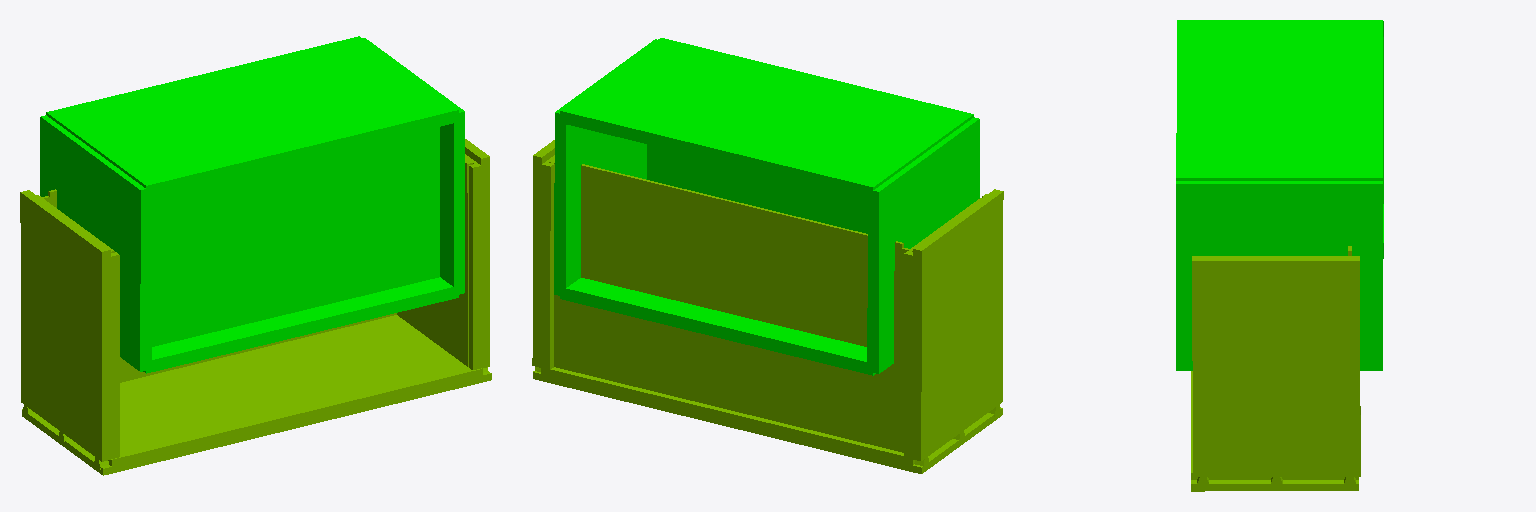
robot.urdf — cube.urdf:
<?xml version="0.0" ?>
<robot name="cube.urdf">
  <link name="baseLink">
    <contact>
      <lateral_friction value="2.0"/>
      <inertia_scaling value="3.0"/>
    </contact>
    <inertial>
      <origin rpy="0 0 0" xyz="0 0 0"/>
       <mass value=".05"/>
       <inertia ixx="1" ixy="0" ixz="0" iyy="1" iyz="0" izz="1"/>
    </inertial>
    <visual>
      <origin rpy="3.14 3.14 0" xyz="0 0 -0.1"/>
      <geometry>
        <mesh filename="model_new.obj" scale="0.8 0.8 0.6"/>
      </geometry>
       <material name="white">
        <color rgba="0.54 0.8 0 1"/>
      </material>
    </visual>
    <collision>
      <origin rpy="3.14 3.14 0" xyz="0 0 -0.1"/>
      <geometry>
        <mesh filename="model_new.obj" scale="0.8 0.8 0.6"/>
      </geometry>
    </collision>
  </link>
  <joint name="joint_baseLink_childA" type="prismatic">
    <parent link="baseLink"/>
    <child link="rear"/>
    <origin rpy="1.570 0 3.14" xyz="0.0 0.0 0.0"/>
    <axis xyz="0 1.0 0"/>
    <limit lower="0.0" upper="0.2" />
  </joint>

  <link name="down">
    <inertial>
      <origin rpy="0 0 0" xyz="0 0 0"/>
      <mass value="0.001"/>
      <inertia ixx="-4.46E-06" ixy="-4.55E-07" ixz="1.95E-06" iyy="-2.47E-06" iyz="8.51E-08" izz="2.17E-06"/>
    </inertial>
    <visual>
      <origin rpy="0 0 0" xyz="0 0 -0.05"/>
      <geometry>
        <box size=".28 .15 0.01"/>
      </geometry>
      <material name="green">
      </material> 
    </visual>
    <collision>
      <origin rpy="0 0 0" xyz="0 0 -0.05"/>
      <geometry>
        <box size=".28 .15 0.01"/>
      </geometry>
    </collision>
  </link>

  <link name="left">
    <inertial>
      <origin rpy="0 0 0" xyz="0 0 0"/>
      <mass value="0.001"/>
      <inertia ixx="-4.46E-06" ixy="-4.55E-07" ixz="1.95E-06" iyy="-2.47E-06" iyz="8.51E-08" izz="2.17E-06"/>
    </inertial>
    <visual>
      <origin rpy="0 0 0" xyz="0.135 0.0 0"/>
      <geometry>
        <box size=".01 .15 0.15"/>
      </geometry>
      <material name="green">
      </material> 
    </visual>
    <collision>
      <origin rpy="0 0 0" xyz="0.135 0 0"/>
      <geometry>
        <box size=".01 .15 0.15"/>
      </geometry>
    </collision>
  </link>

  <joint name="left_joint" type="fixed">
    <origin rpy="0 0 0" xyz="0 0 0"/>
    <parent link="down"/>
    <child link="left"/>
  </joint>

  <link name="right">
    <inertial>
      <mass value="0.001"/>
      <inertia ixx="-4.46E-06" ixy="-4.55E-07" ixz="1.95E-06" iyy="-2.47E-06" iyz="8.51E-08" izz="2.17E-06"/>
    </inertial>
    <visual>
      <origin rpy="0 0 0" xyz="-0.135 0.0 0"/>
      <geometry>
        <box size=".01 .15 0.15"/>
      </geometry>
      <material name="green">
      </material> 
    </visual>
    <collision>
      <origin rpy="0 0 0" xyz="-0.135 0 0"/>
      <geometry>
        <box size=".01 .15 0.15"/>
      </geometry>
    </collision>
  </link>

  <joint name="right_joint" type="fixed">
    <origin rpy="0 0 0" xyz="0 0 0"/>
    <parent link="down"/>
    <child link="right"/>
  </joint>

  <link name="front">
    <inertial>
      <mass value="0.001"/>
      <inertia ixx="-4.46E-06" ixy="-4.55E-07" ixz="1.95E-06" iyy="-2.47E-06" iyz="8.51E-08" izz="2.17E-06"/>
    </inertial>
    <visual>
      <origin rpy="0 0 0" xyz="0 0.0725 0"/>
      <geometry>
        <box size=".27 .01 0.15"/>
      </geometry>
      <material name="green">
      </material> 
    </visual>
    <collision>
      <origin rpy="0 0 0" xyz="0 0.0725 0"/>
      <geometry>
        <box size=".27 .01 0.15"/>
      </geometry>
    </collision>
  </link>

  <joint name="front_joint" type="fixed">
    <origin rpy="0 0 0" xyz="0 0 0"/>
    <parent link="down"/>
    <child link="front"/>
  </joint>

  <link name="rear">
    <inertial>
      <origin rpy="0 0 0" xyz="0 -0.0725 0"/>
      <mass value="0.001"/>
      <inertia ixx="-4.46E-06" ixy="-4.55E-07" ixz="1.95E-06" iyy="-2.47E-06" iyz="8.51E-08" izz="2.17E-06"/>
    </inertial>
    <visual>
      <origin rpy="0 0 0" xyz="0 -0.0725 0"/>
      <geometry>
        <box size=".27 .01 0.15"/>
      </geometry>
      <material name="green">
      </material> 
    </visual>
    <collision>
      <origin rpy="0 0 0" xyz="0 -0.0725 0"/>
      <geometry>
        <box size=".27 .01 0.15"/>
      </geometry>
    </collision>
  </link>

  <joint name="rear_joint" type="fixed">
    <origin rpy="0 0 0" xyz="0 0 0"/>
    <parent link="rear"/>
    <child link="down"/>
  </joint>


  <material name="panda_white">
    <color rgba="1. 1. 1. 1."/>
  </material>
  <material name="red">
    <color rgba="1.0 0. 0. 1.0"/>
  </material>
  <material name="blue">
    <color rgba="0. 0. 1. 1.0"/>
  </material>
  <material name="green">
    <color rgba="0. 1. 0. 1.0"/>
  </material>
<material name="Yellow">
  <color rgba="0.949 0.878 0.0392 1.0"/>
</material>
<material name="Blue">
  <color rgba="0.12156 0.3804 0.6745 1.0"/>
</material>
<material name="Red">
  <color rgba="0.9254901 0.243137 0.086274509 1.0"/>
</material>
</robot>

--- Facts derived from the render (not from the file) ---
Views: 3 orthographic renders of the robot side by side, from view 1: azimuth 30°, elevation 25°; view 2: azimuth 150°, elevation 25°; view 3: azimuth 270°, elevation 25°.
Robot: cube.urdf — 6 links, 5 joints (1 prismatic, 4 fixed); root link baseLink; default pose: all joints at 0.
Visible links, largest first — view 1: baseLink, down, front, left, rear, right; view 2: baseLink, front, left, down, rear, right; view 3: baseLink, front, right, down.
Boxes of the visible links, x1=… form: baseLink: x1=20, y1=139, x2=491, y2=475; down: x1=121, y1=127, x2=439, y2=354; front: x1=46, y1=36, x2=458, y2=197; left: x1=40, y1=115, x2=151, y2=371; rear: x1=143, y1=277, x2=458, y2=373; right: x1=363, y1=38, x2=464, y2=295; baseLink: x1=532, y1=140, x2=1003, y2=473; front: x1=560, y1=38, x2=973, y2=198; left: x1=867, y1=117, x2=979, y2=373; down: x1=636, y1=53, x2=965, y2=233; rear: x1=560, y1=278, x2=875, y2=375; right: x1=554, y1=39, x2=656, y2=295; baseLink: x1=1191, y1=246, x2=1360, y2=491; front: x1=1176, y1=20, x2=1383, y2=180; right: x1=1176, y1=181, x2=1382, y2=370; down: x1=1204, y1=181, x2=1217, y2=255.
Bounding box of the posed robot: 0.3359 × 0.1506 × 0.2362 m (x, y, z).
1 mesh visuals loaded from 1 distinct referenced files (1 OBJ).